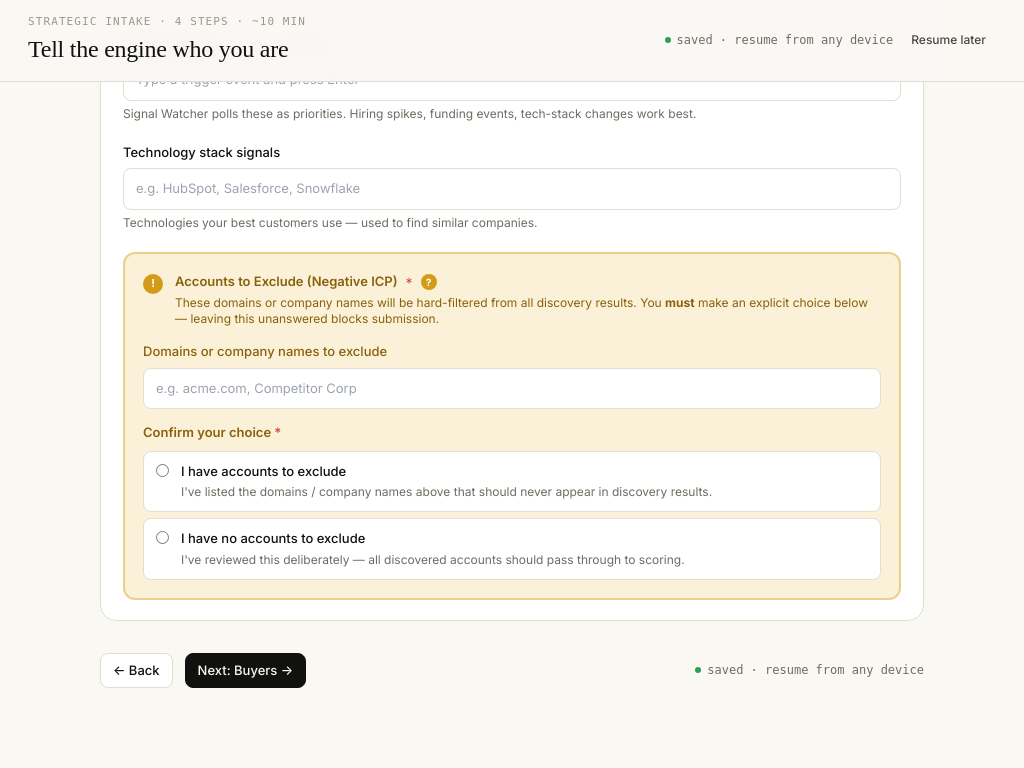
Test: IntakeForm — navigation › can go Back from Step 2 to Step 1
(page scrolled)
Click the button "← Back": (136, 670) [100,653,173,688]
(page scrolled)
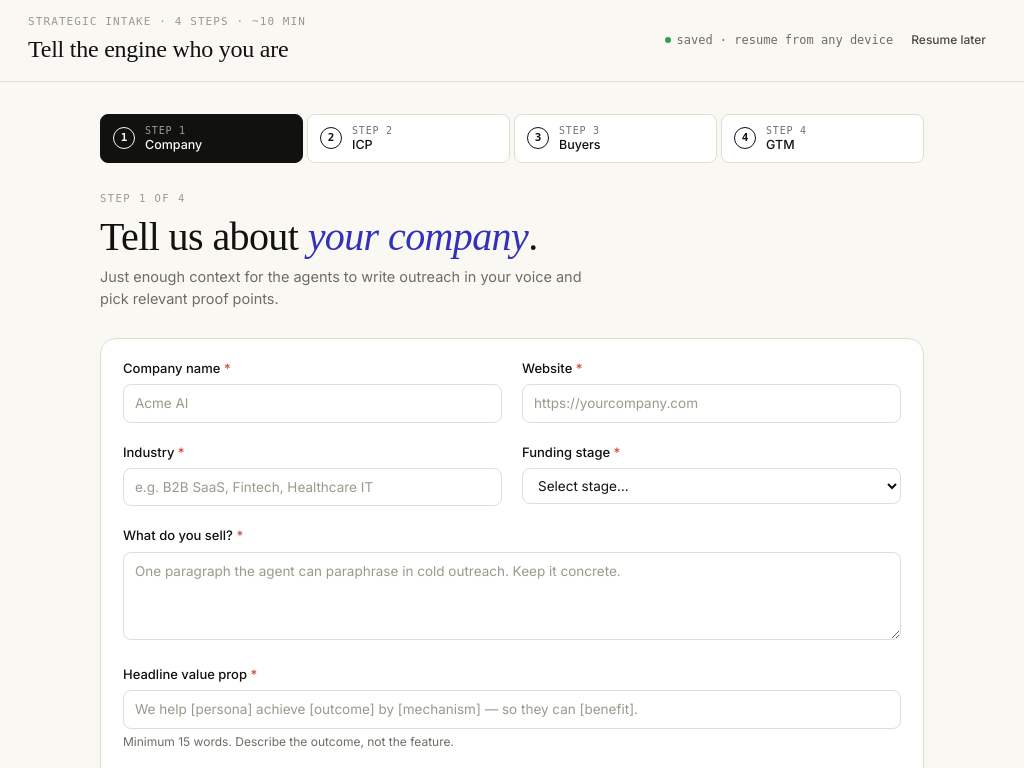
Check: the text "Step 1 of 4" is shown, box [100,192,186,204]
